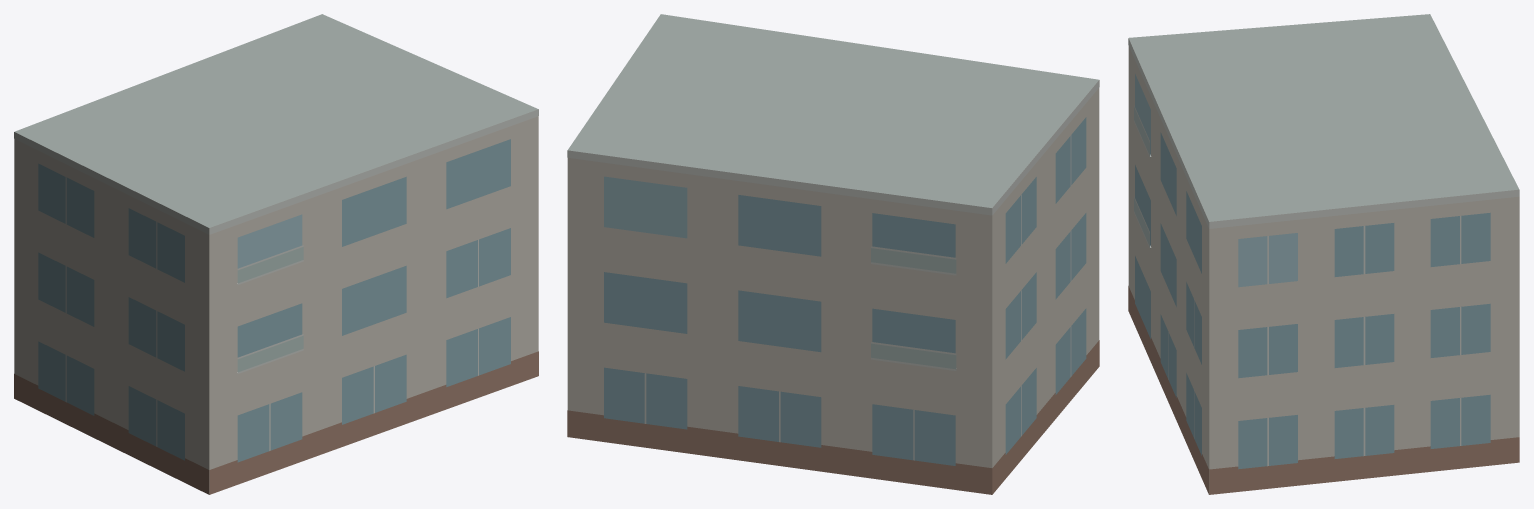
Rendered from survey-upis-32610260.glb.
3 views of the same model, side by side, from view 1: azimuth 30°, elevation 25°; view 2: azimuth 150°, elevation 25°; view 3: azimuth 270°, elevation 25° (orthographic). The views are drawn at different scales.
Visible parts, largest first — view 1: survey-upis-32610260.tmp; view 2: survey-upis-32610260.tmp; view 3: survey-upis-32610260.tmp.
Part boxes in pixels (bbox=[...]): survey-upis-32610260.tmp: bbox=[14, 14, 538, 494]; survey-upis-32610260.tmp: bbox=[567, 14, 1099, 494]; survey-upis-32610260.tmp: bbox=[1128, 14, 1519, 494].
Bounding box in the file's own units: 15.53 × 9.5 × 12.35.
